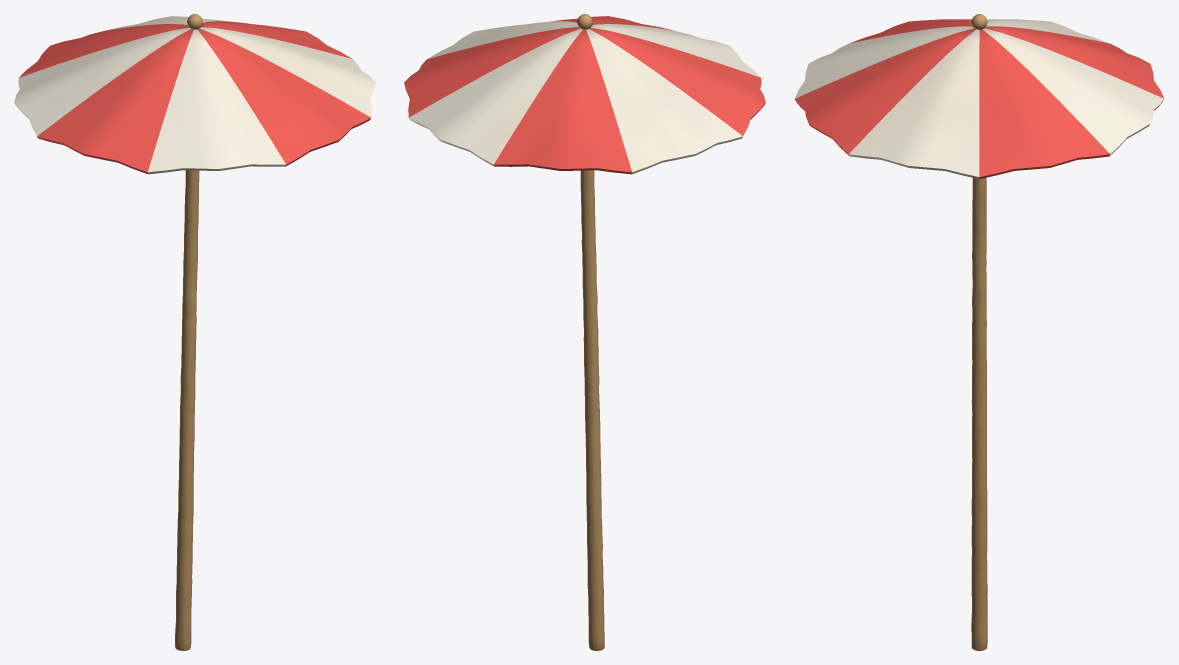
Rendered from shore_umbrella.glb.
3 views of the same model, side by side, from view 1: azimuth 30°, elevation 25°; view 2: azimuth 150°, elevation 25°; view 3: azimuth 270°, elevation 25° (orthographic).
Visible parts, largest first — view 1: shore_umbrella; view 2: shore_umbrella; view 3: shore_umbrella.
Part boxes in pixels (<box>): shore_umbrella: <box>14,14,375,650</box>; shore_umbrella: <box>404,14,765,650</box>; shore_umbrella: <box>794,14,1164,650</box>.
Size of the model in its own units: 15.87 by 30.26 by 15.87.
